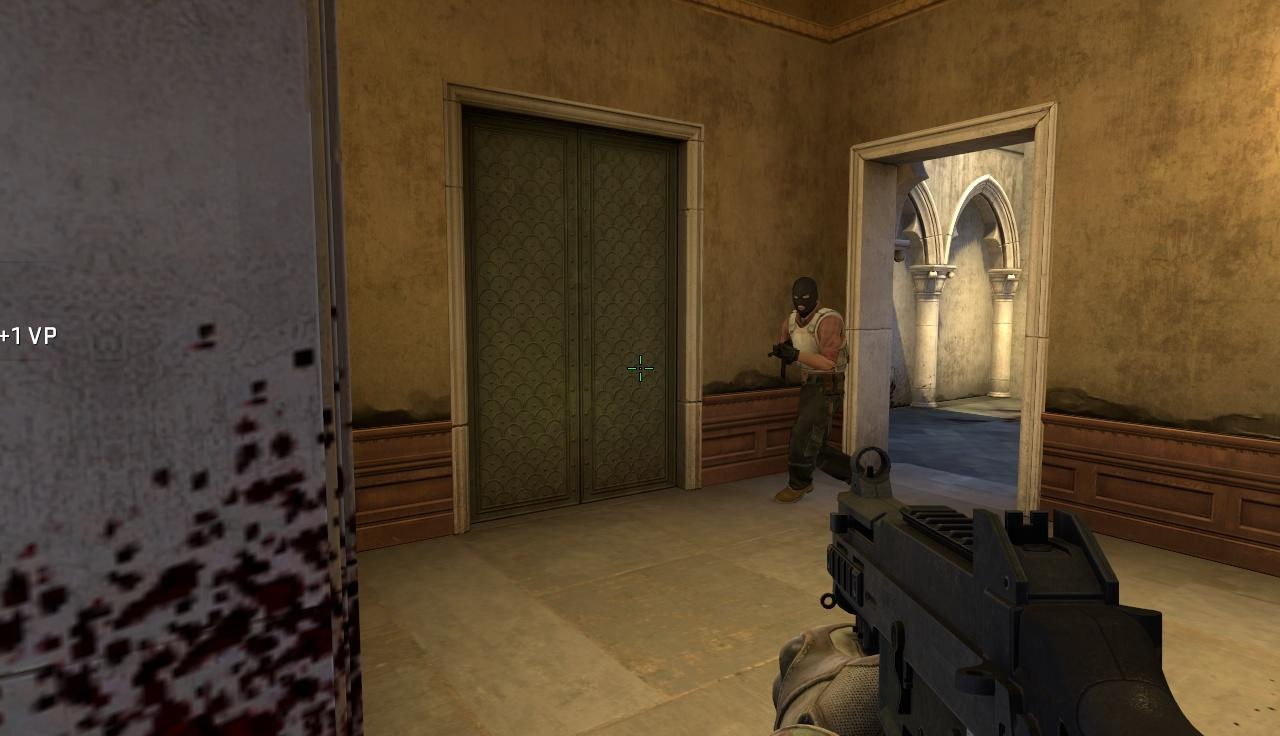rifle: (806, 442, 1212, 736)
tt: (768, 275, 857, 500)
tthead: (792, 276, 818, 315)
